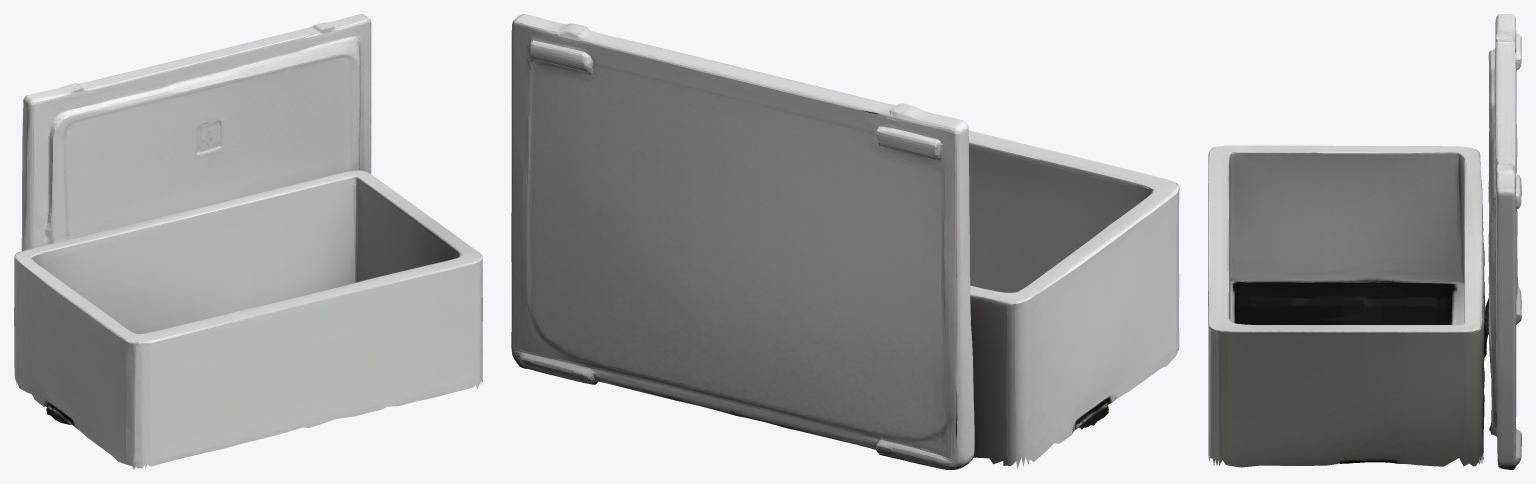
File: box6_clean.glb
3 views of the same model, side by side, from view 1: azimuth 30°, elevation 25°; view 2: azimuth 150°, elevation 25°; view 3: azimuth 270°, elevation 25° (orthographic). The views are drawn at different scales.
Visible parts, largest first — view 1: world; view 2: world; view 3: world.
Part boxes in pixels (bbox=[...]): world: bbox=[14, 14, 482, 469]; world: bbox=[511, 14, 1179, 469]; world: bbox=[1208, 14, 1521, 469].
Bounding box in the file's own units: 0.7083 × 0.4774 × 0.4715.
Materials: 1 (1 with a texture image).
